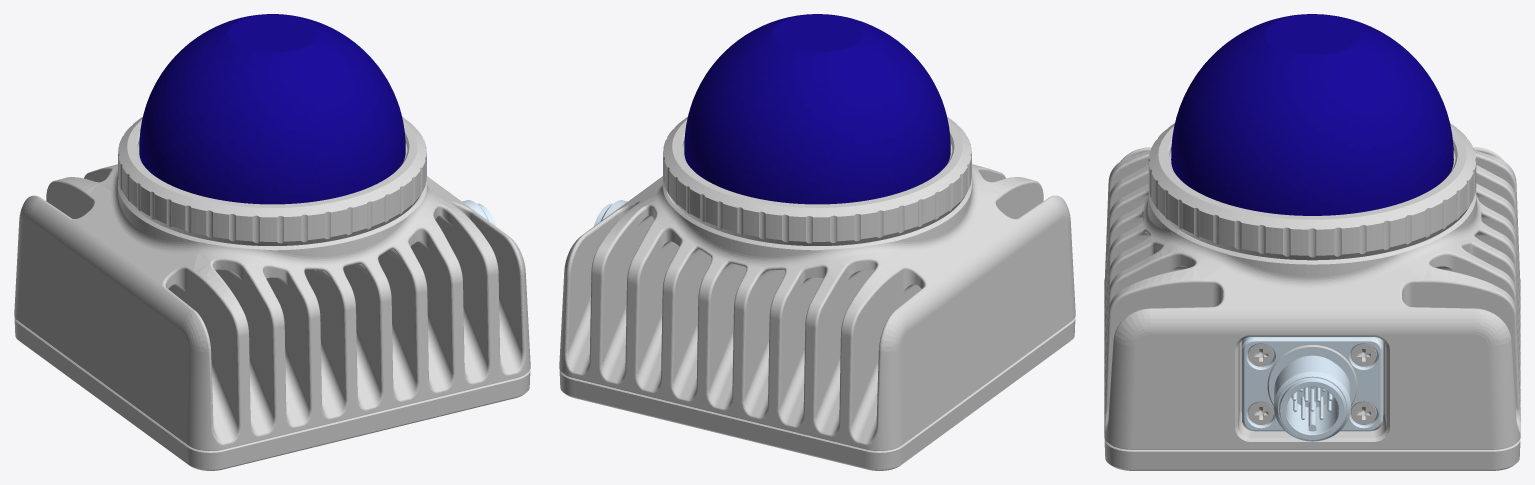
File: mid-360-asm.obj
3 views of the same model, side by side, from view 1: azimuth 30°, elevation 25°; view 2: azimuth 150°, elevation 25°; view 3: azimuth 270°, elevation 25° (orthographic). The views are drawn at different scales.
Parts seen in each view (by area): view 1: obj1, obj7, obj4, obj2, obj5; view 2: obj1, obj7, obj4, obj2, obj5; view 3: obj1, obj7, obj4, obj2, obj6, obj5, obj3.
Boxes of the visible parts, <box> form: obj1: <box>14,164,530,450</box>; obj7: <box>139,14,405,204</box>; obj4: <box>14,117,530,470</box>; obj2: <box>46,169,521,443</box>; obj5: <box>14,143,530,452</box>; obj1: <box>559,164,1075,450</box>; obj7: <box>684,14,950,204</box>; obj4: <box>559,117,1075,470</box>; obj2: <box>656,167,1043,444</box>; obj5: <box>559,143,1075,452</box>; obj1: <box>1104,147,1520,448</box>; obj7: <box>1171,14,1453,215</box>; obj4: <box>1104,123,1520,470</box>; obj2: <box>1104,153,1520,431</box>; obj6: <box>1242,337,1382,441</box>; obj5: <box>1104,150,1520,451</box>; obj3: <box>1248,344,1273,366</box>.
Size of the model in its own units: 72.74 by 60.1 by 64.87.
